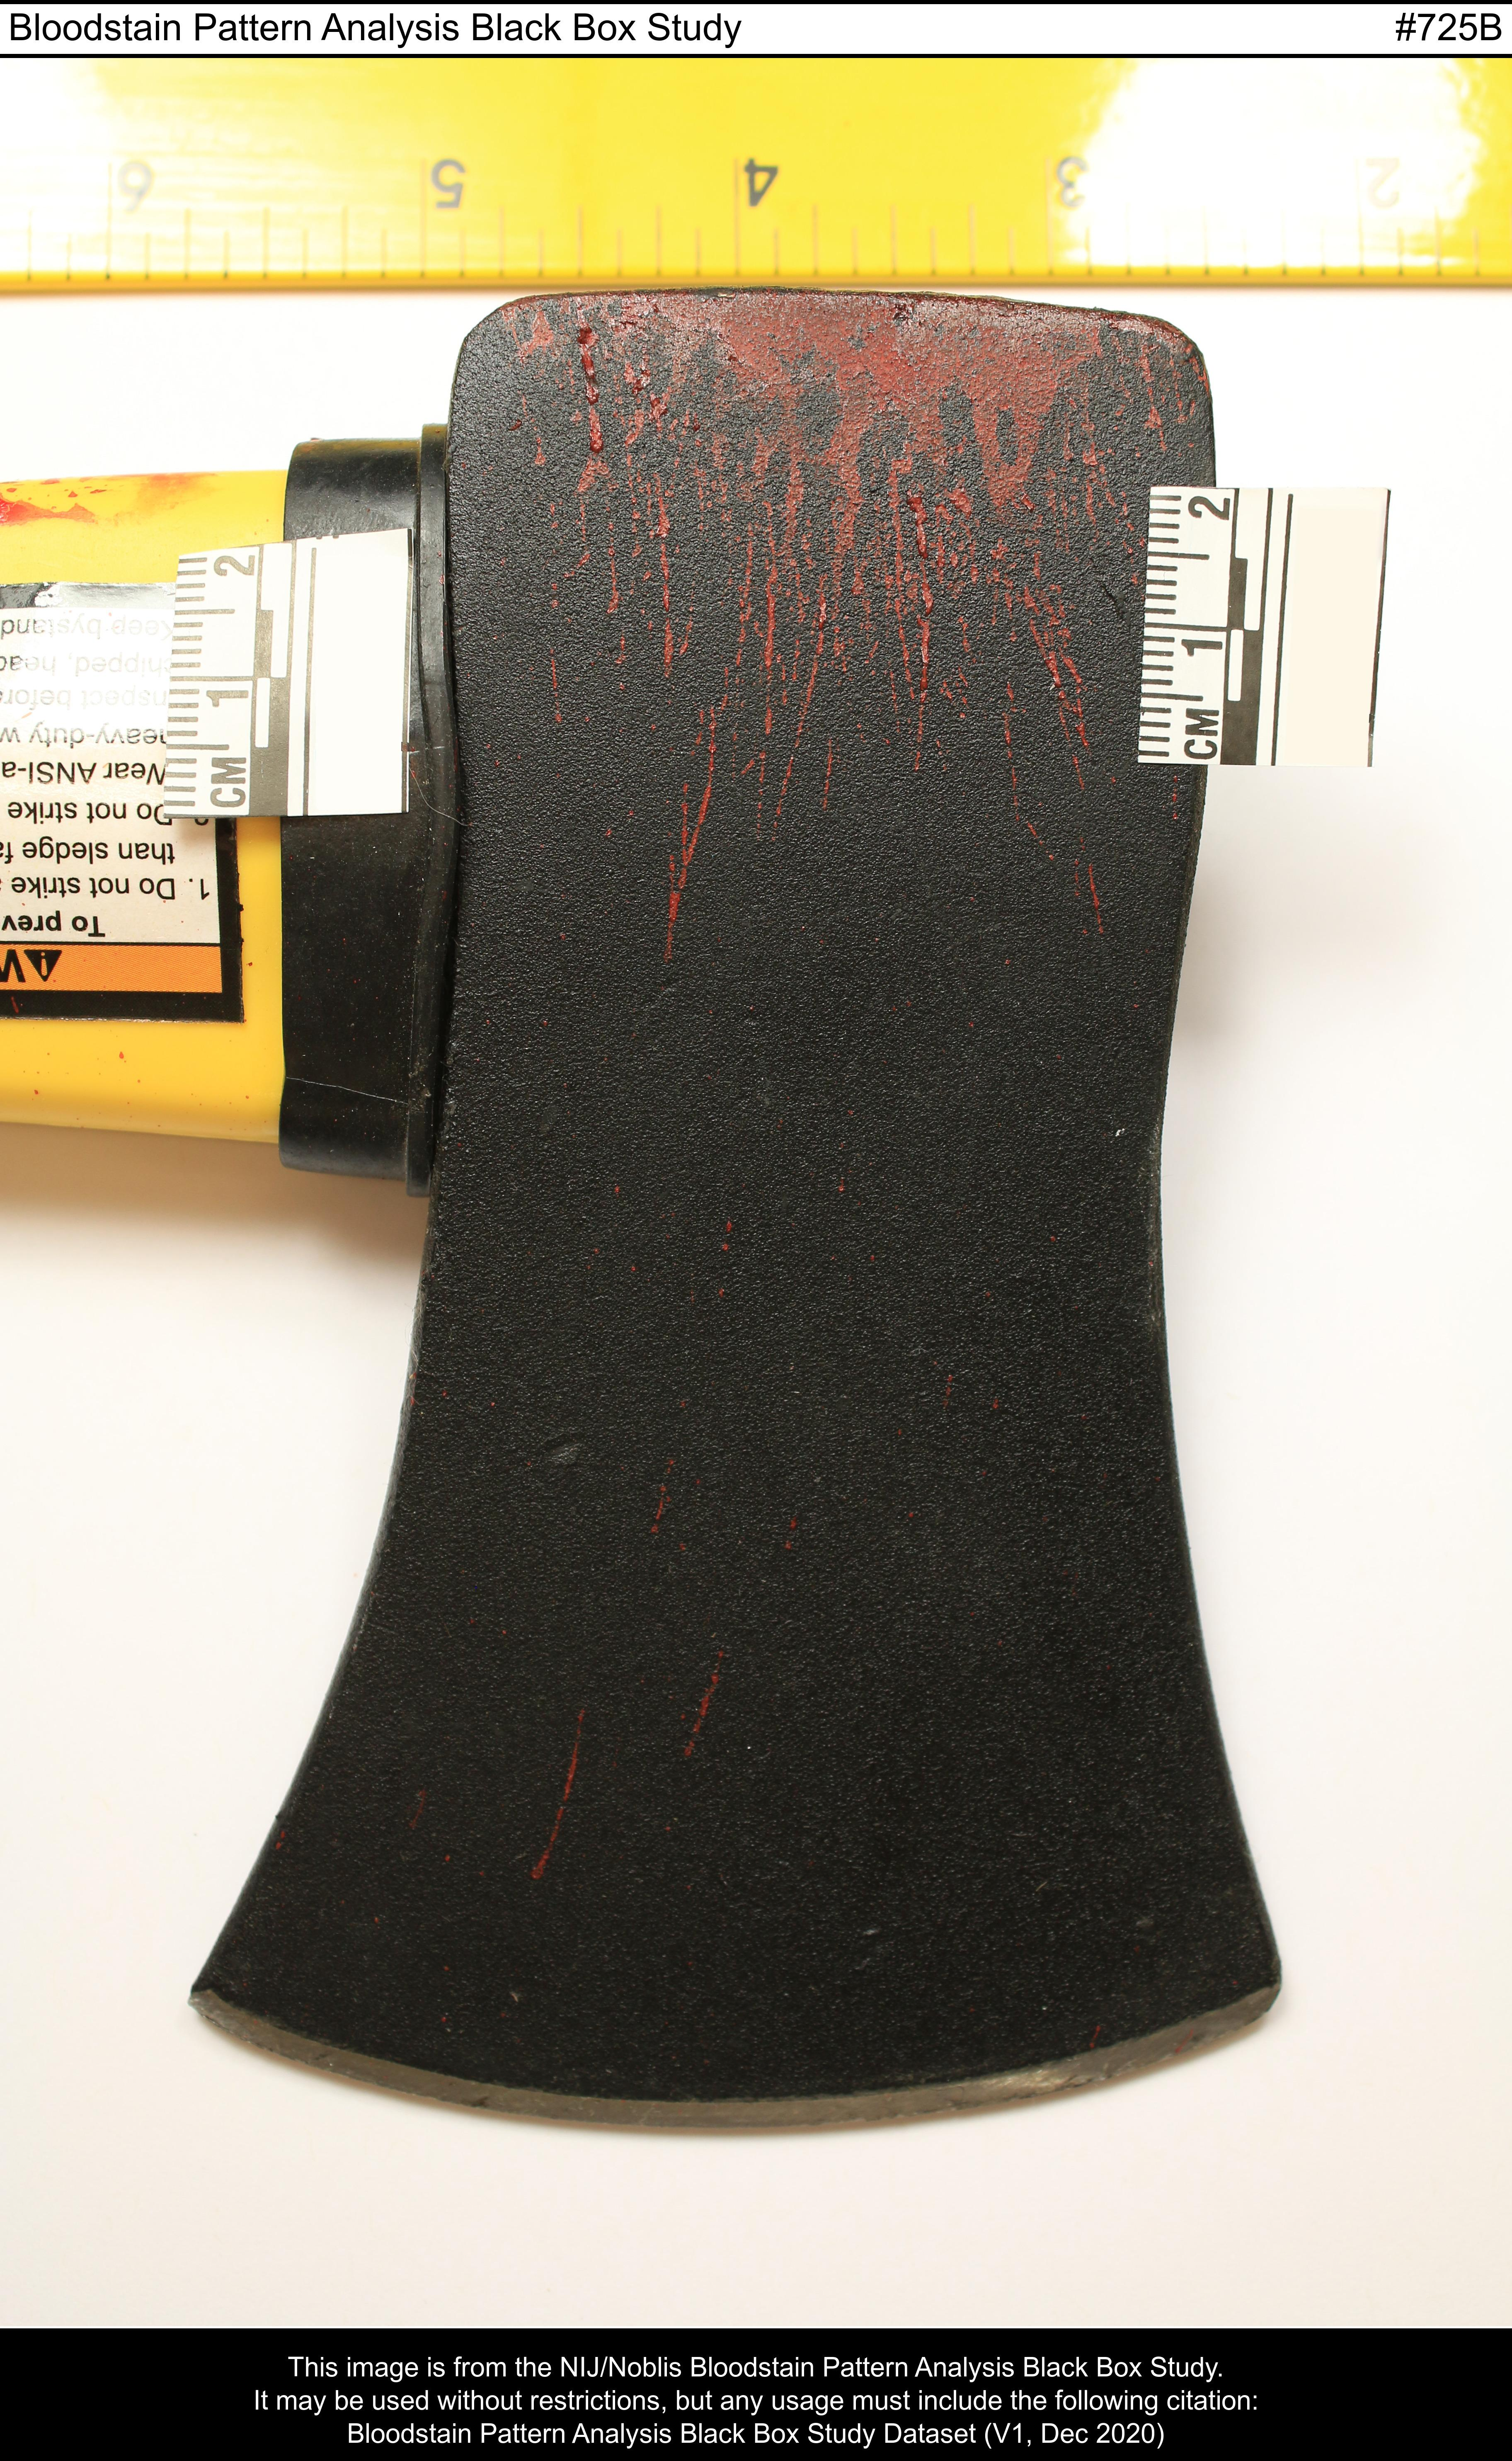Transfer: (527, 290, 1129, 1007), (0, 457, 232, 547)
